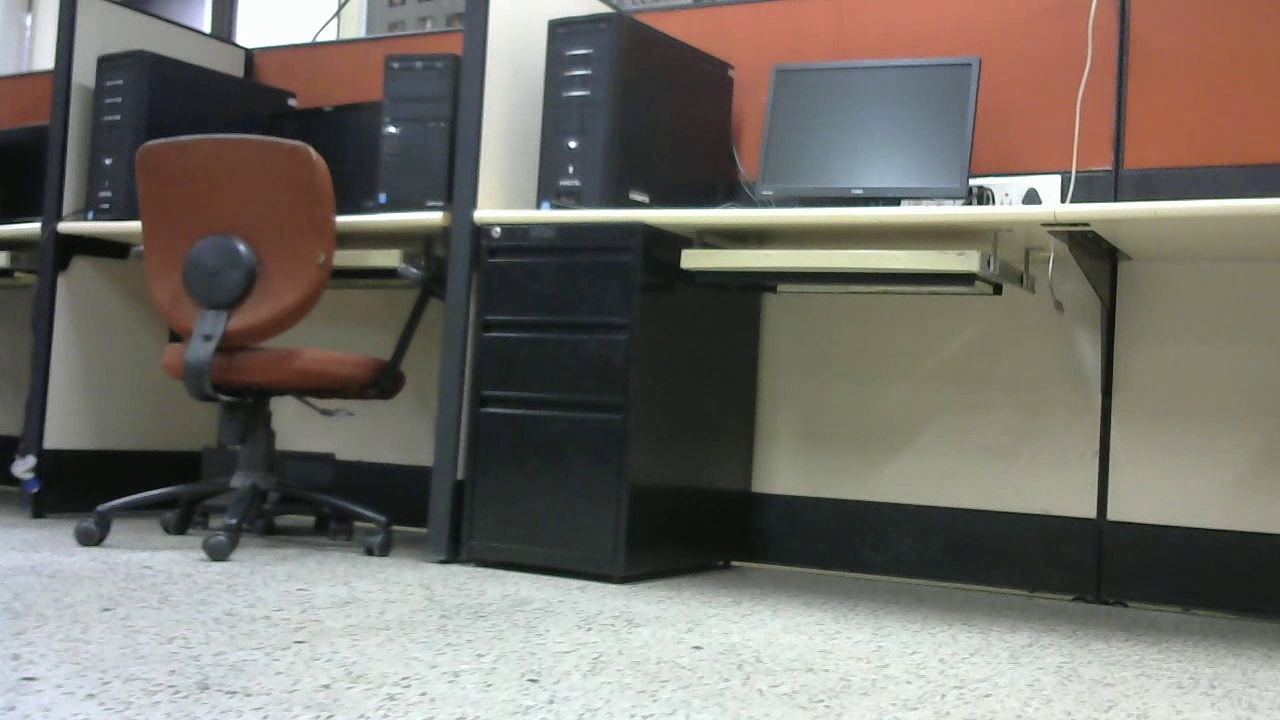chair: (69, 129, 451, 569)
